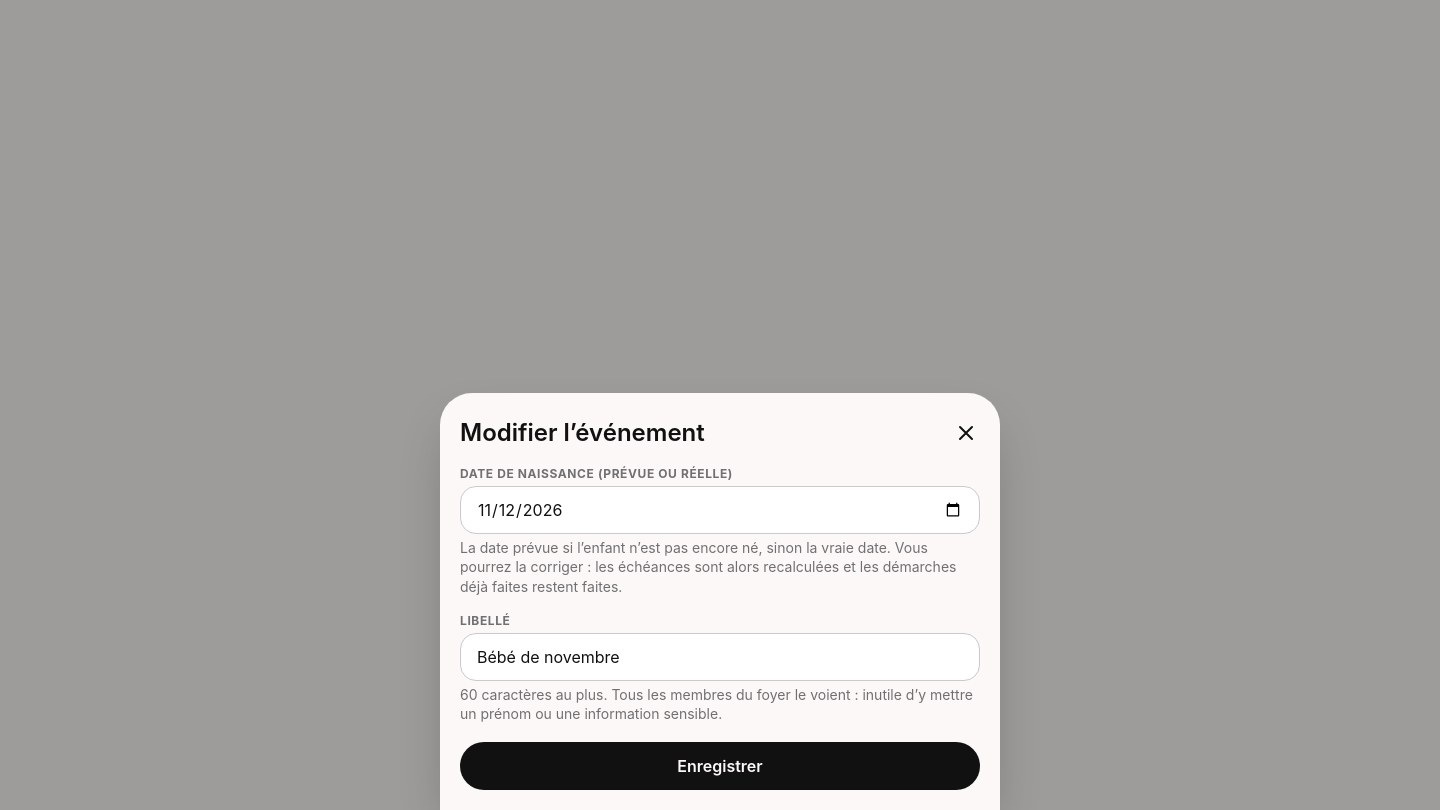
Scenario: LifeEventForm (editing) › requires a label (the server refuses an empty one)
The width and height of the screenshot is (1440, 810).
Clear the field labelled "Libellé": (720, 657) [460, 633, 980, 681]
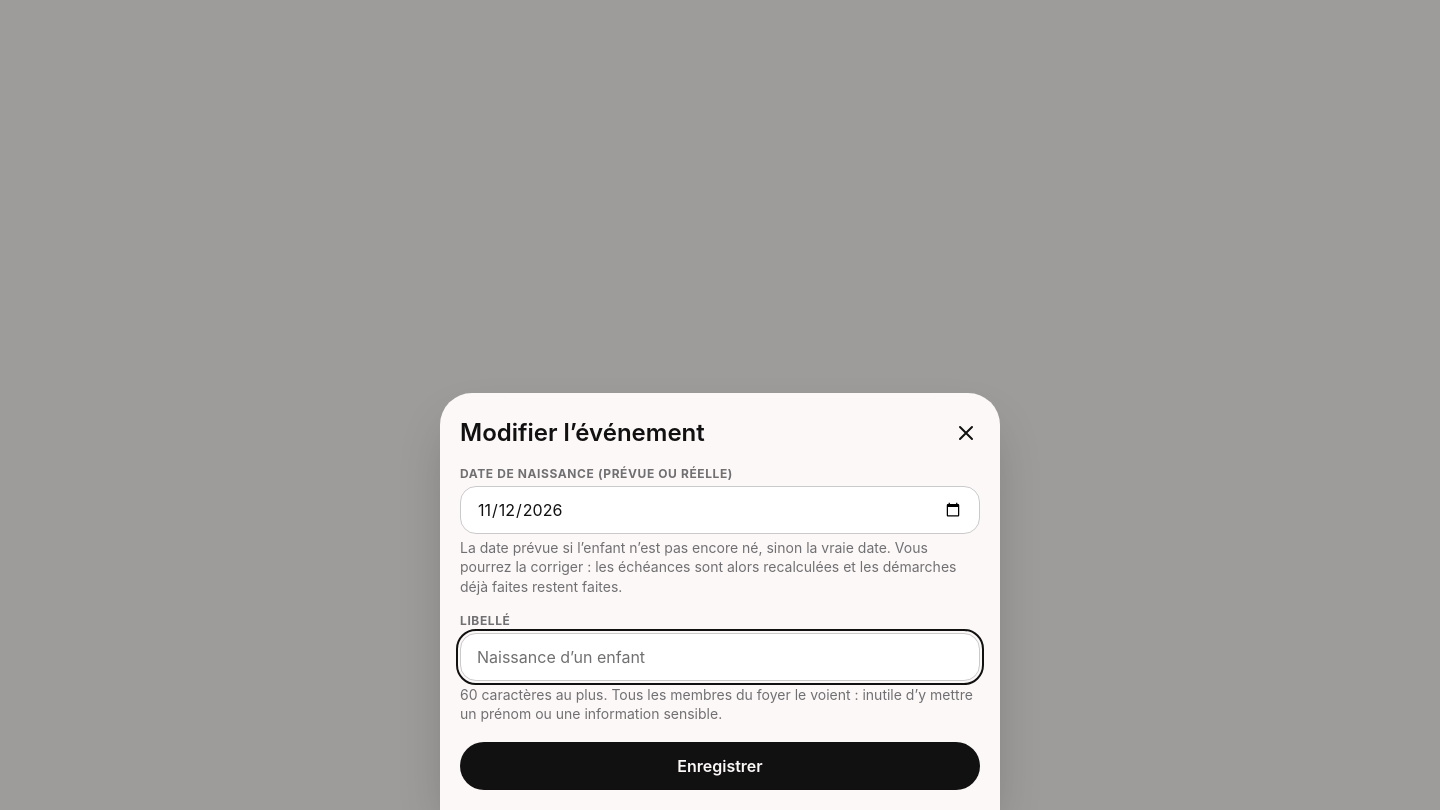
Click the button "Enregistrer": click(720, 766) [460, 742, 980, 790]
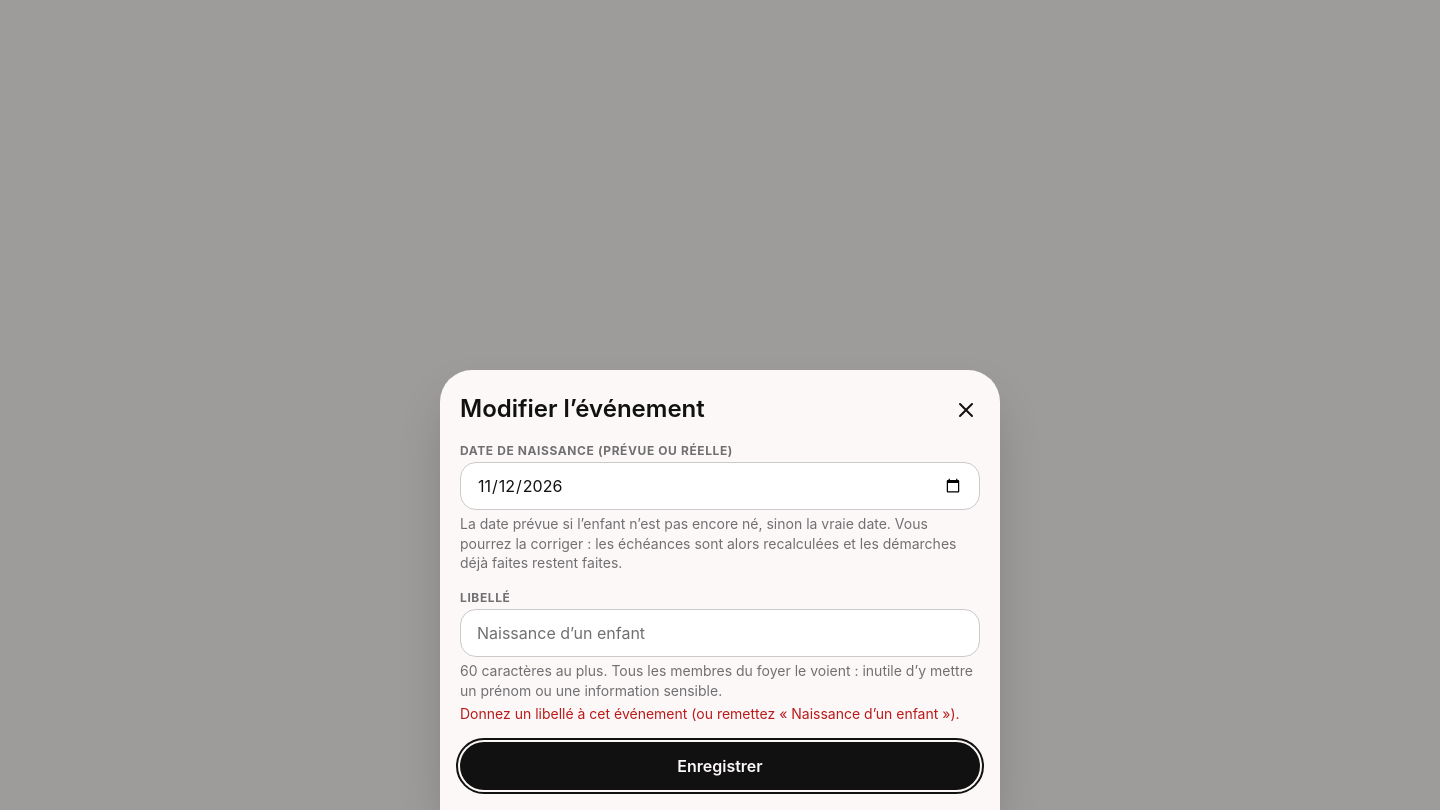
Now the message shows "Donnez un libellé", box [460, 705, 960, 722]
